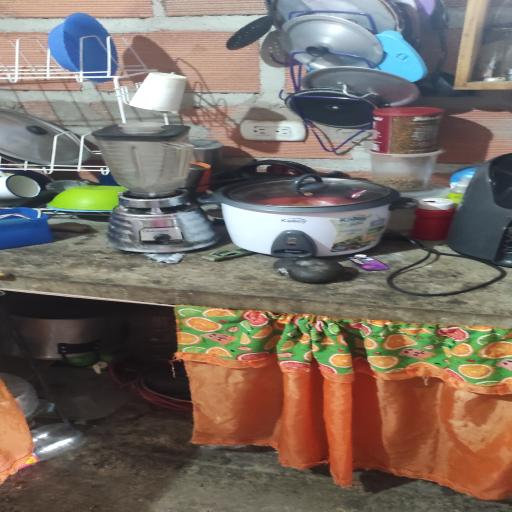Carrito: (202, 248, 255, 262)
